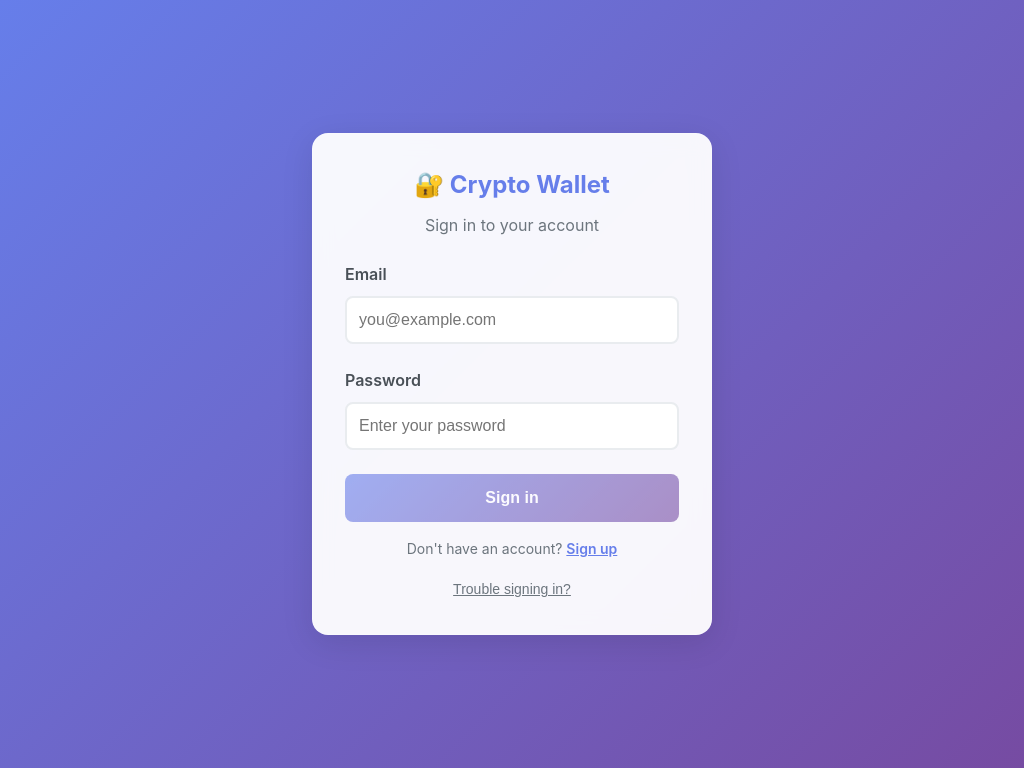
Scenario: SignIn page › shows a network-error message when the API is unreachable
This screenshot has width=1024, height=768.
Step 1. Type "admin@cryptowall.local" into the field labelled "Email" → (512, 320), box [345, 296, 679, 344]
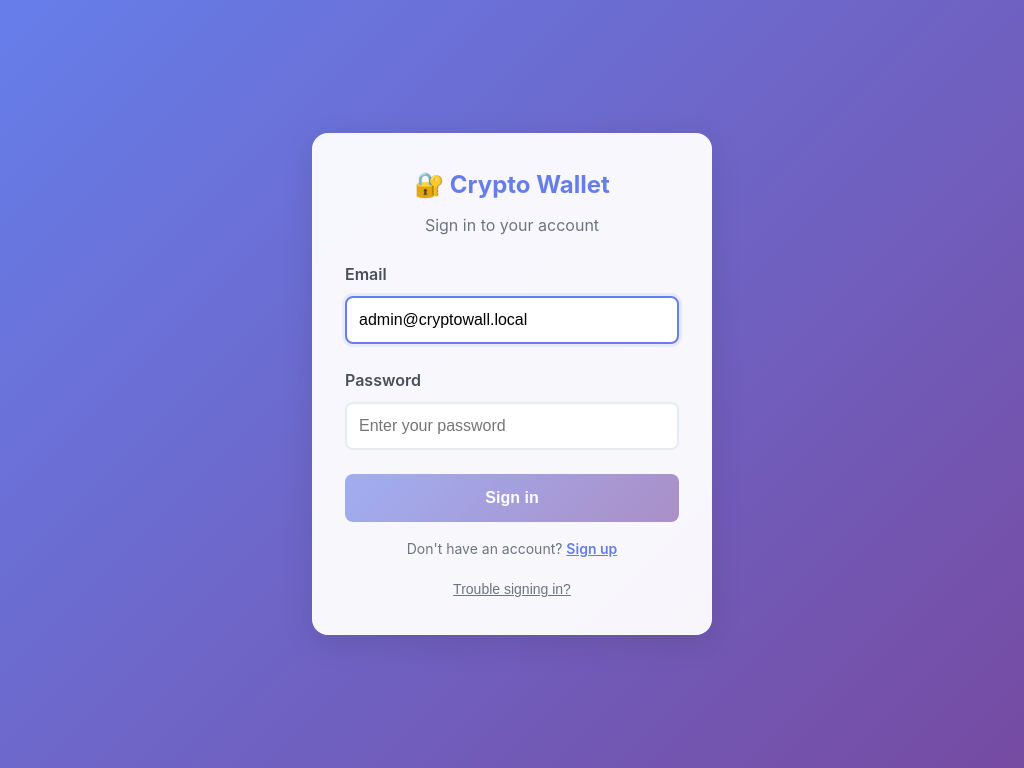
Step 2. Type "super-secret" into the password field labelled "Password" → (512, 426), box [345, 402, 679, 450]
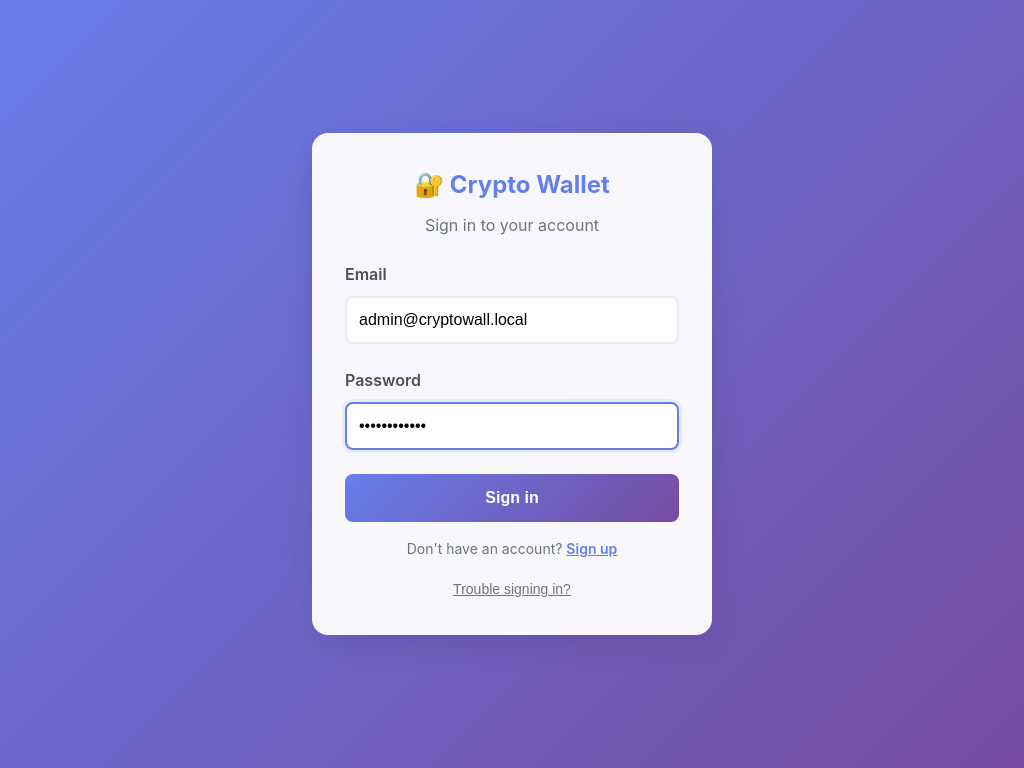
Step 3. Click the button "Sign in" → (512, 498), box [345, 474, 679, 522]
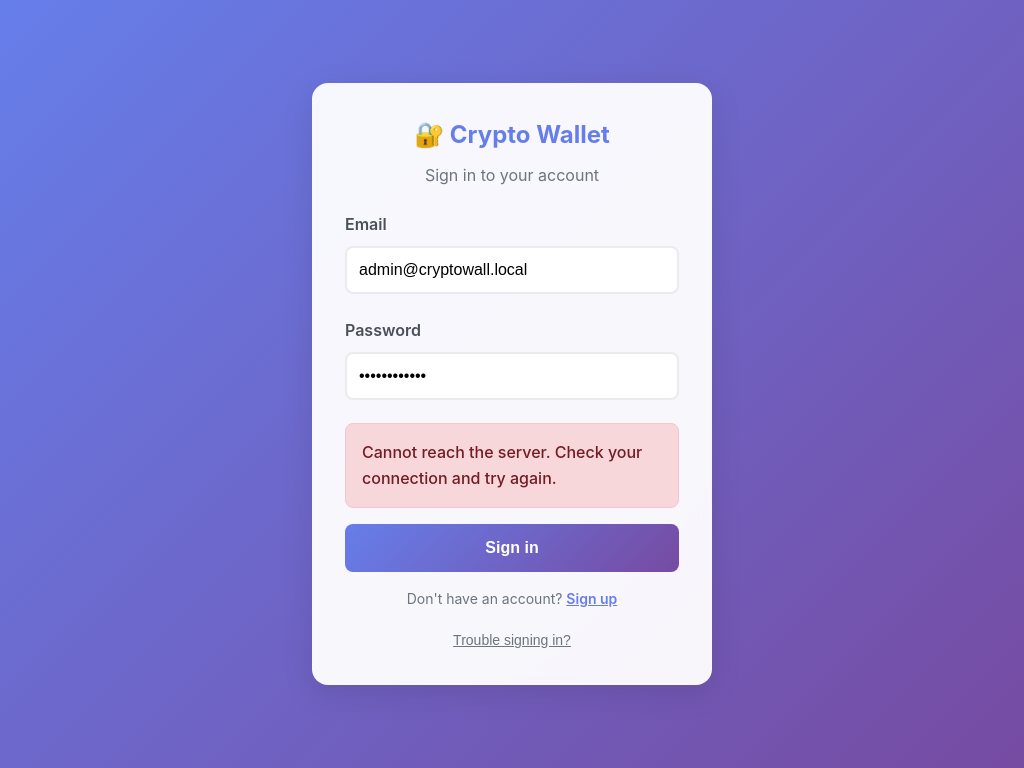
Result: the message shows "Cannot reach the server" at [362, 442, 642, 488]
